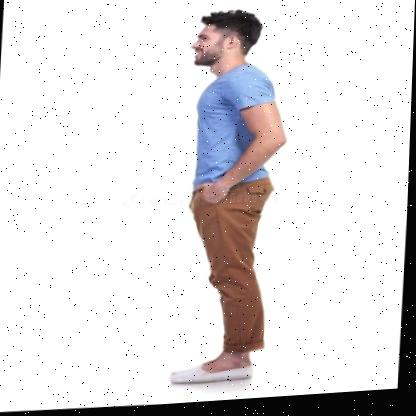person: (154, 0, 296, 395)
